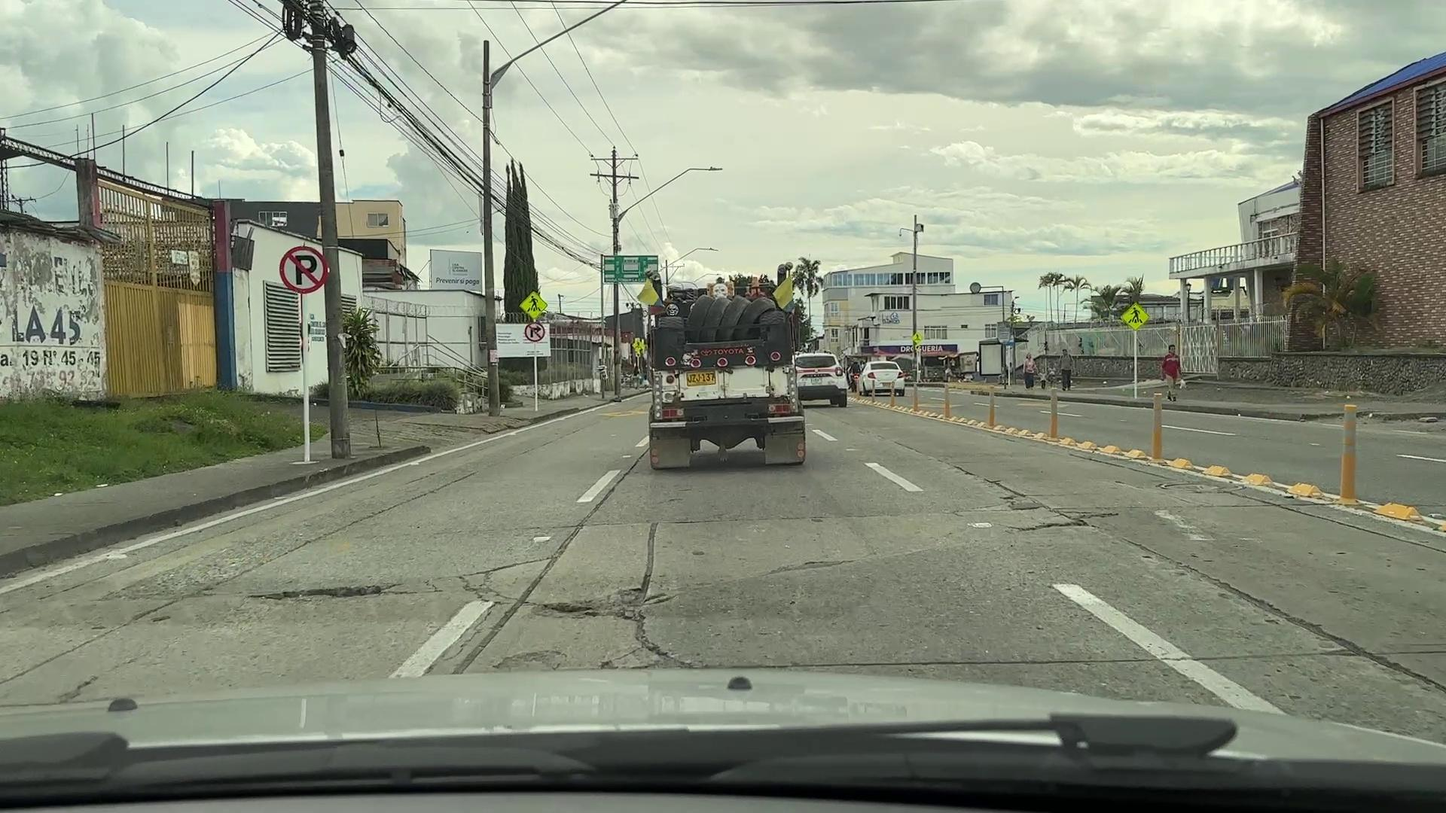bache: (532, 587, 650, 621), (1018, 513, 1119, 535), (252, 586, 395, 598), (1000, 491, 1049, 510)
grieta: (1120, 536, 1445, 692), (448, 458, 640, 675), (457, 557, 552, 604), (633, 620, 693, 669), (954, 466, 1012, 491), (642, 522, 659, 588)
registro: (1164, 483, 1223, 492)
